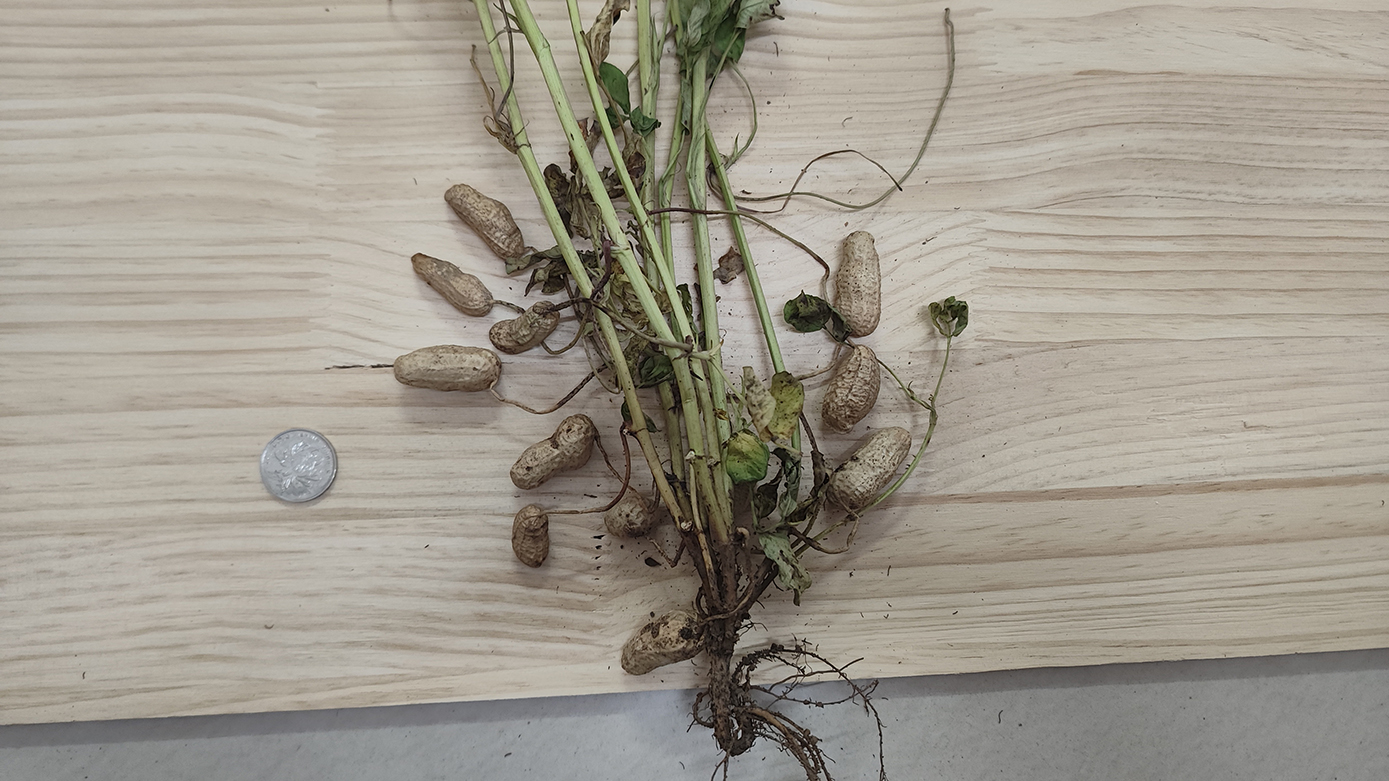h: (830, 427, 913, 508), (617, 607, 707, 678), (444, 184, 527, 260), (510, 414, 596, 487), (410, 252, 494, 317), (835, 230, 883, 337), (820, 346, 881, 430), (393, 344, 502, 391), (488, 302, 559, 352), (511, 503, 549, 566), (604, 498, 656, 535)
